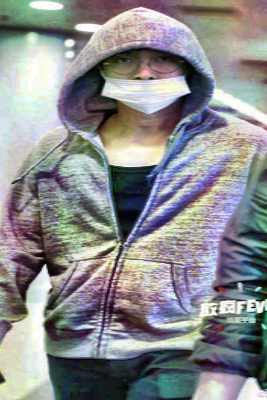mask_weared_incorrect: (96, 50, 191, 114)
